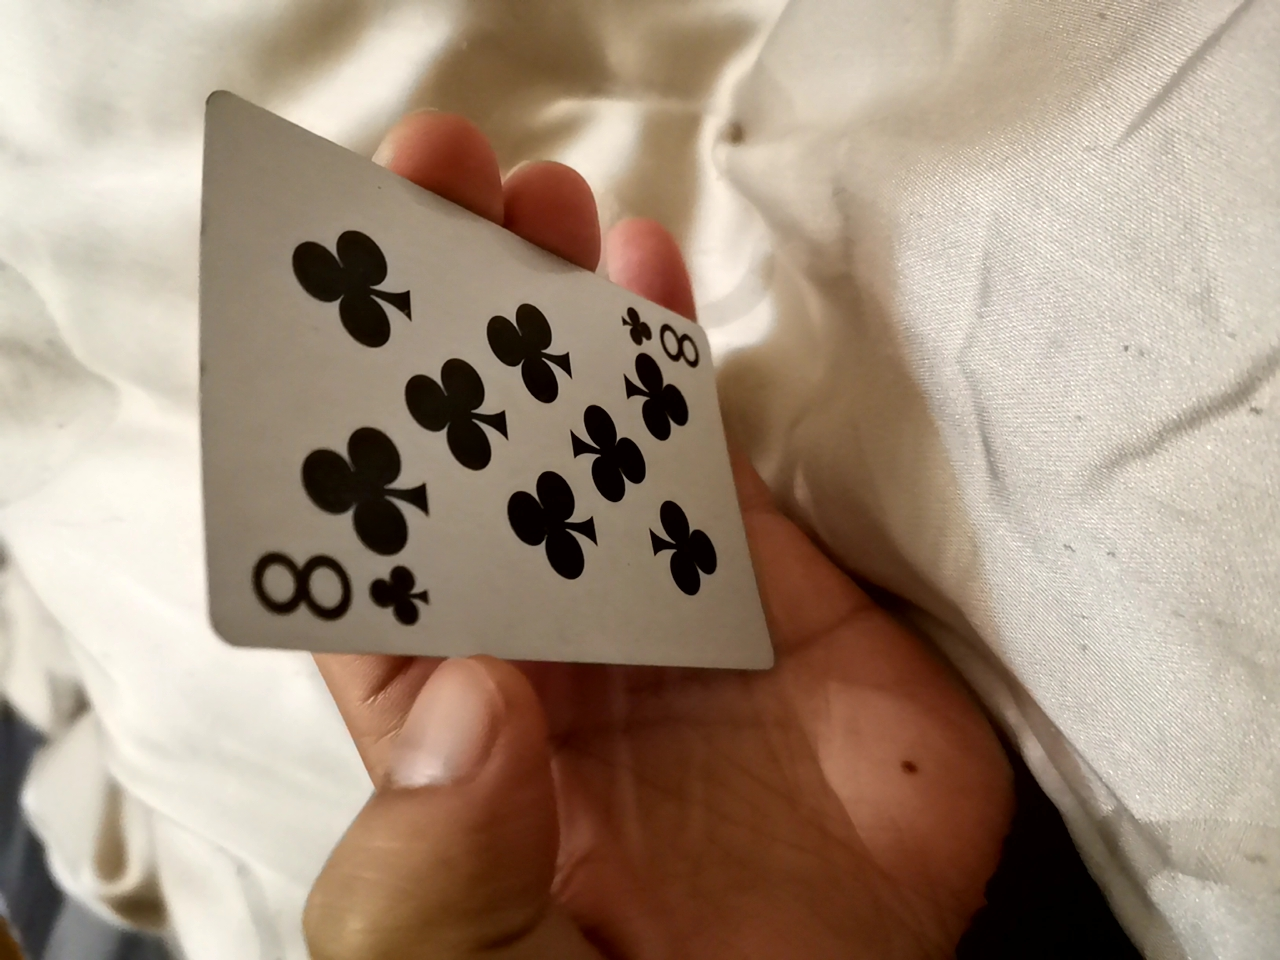mh 8: (167, 124, 772, 677)
